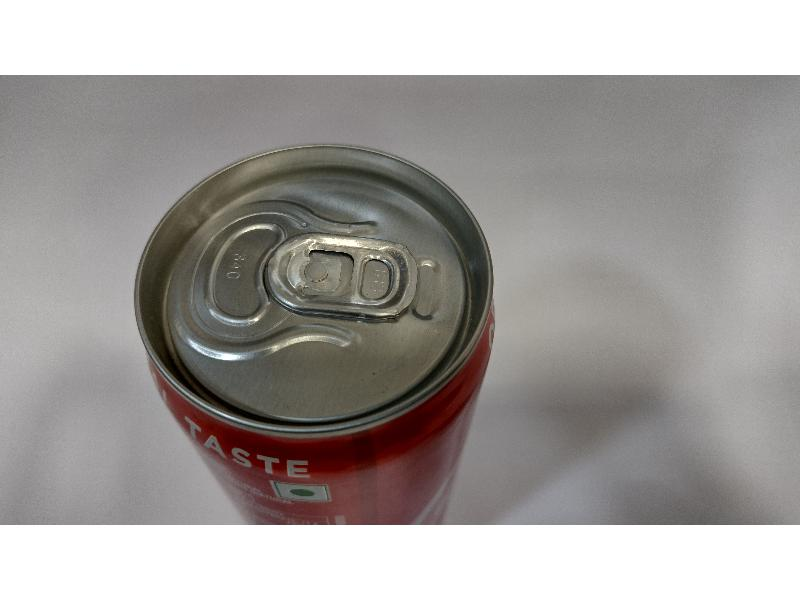can: (132, 140, 499, 520)
